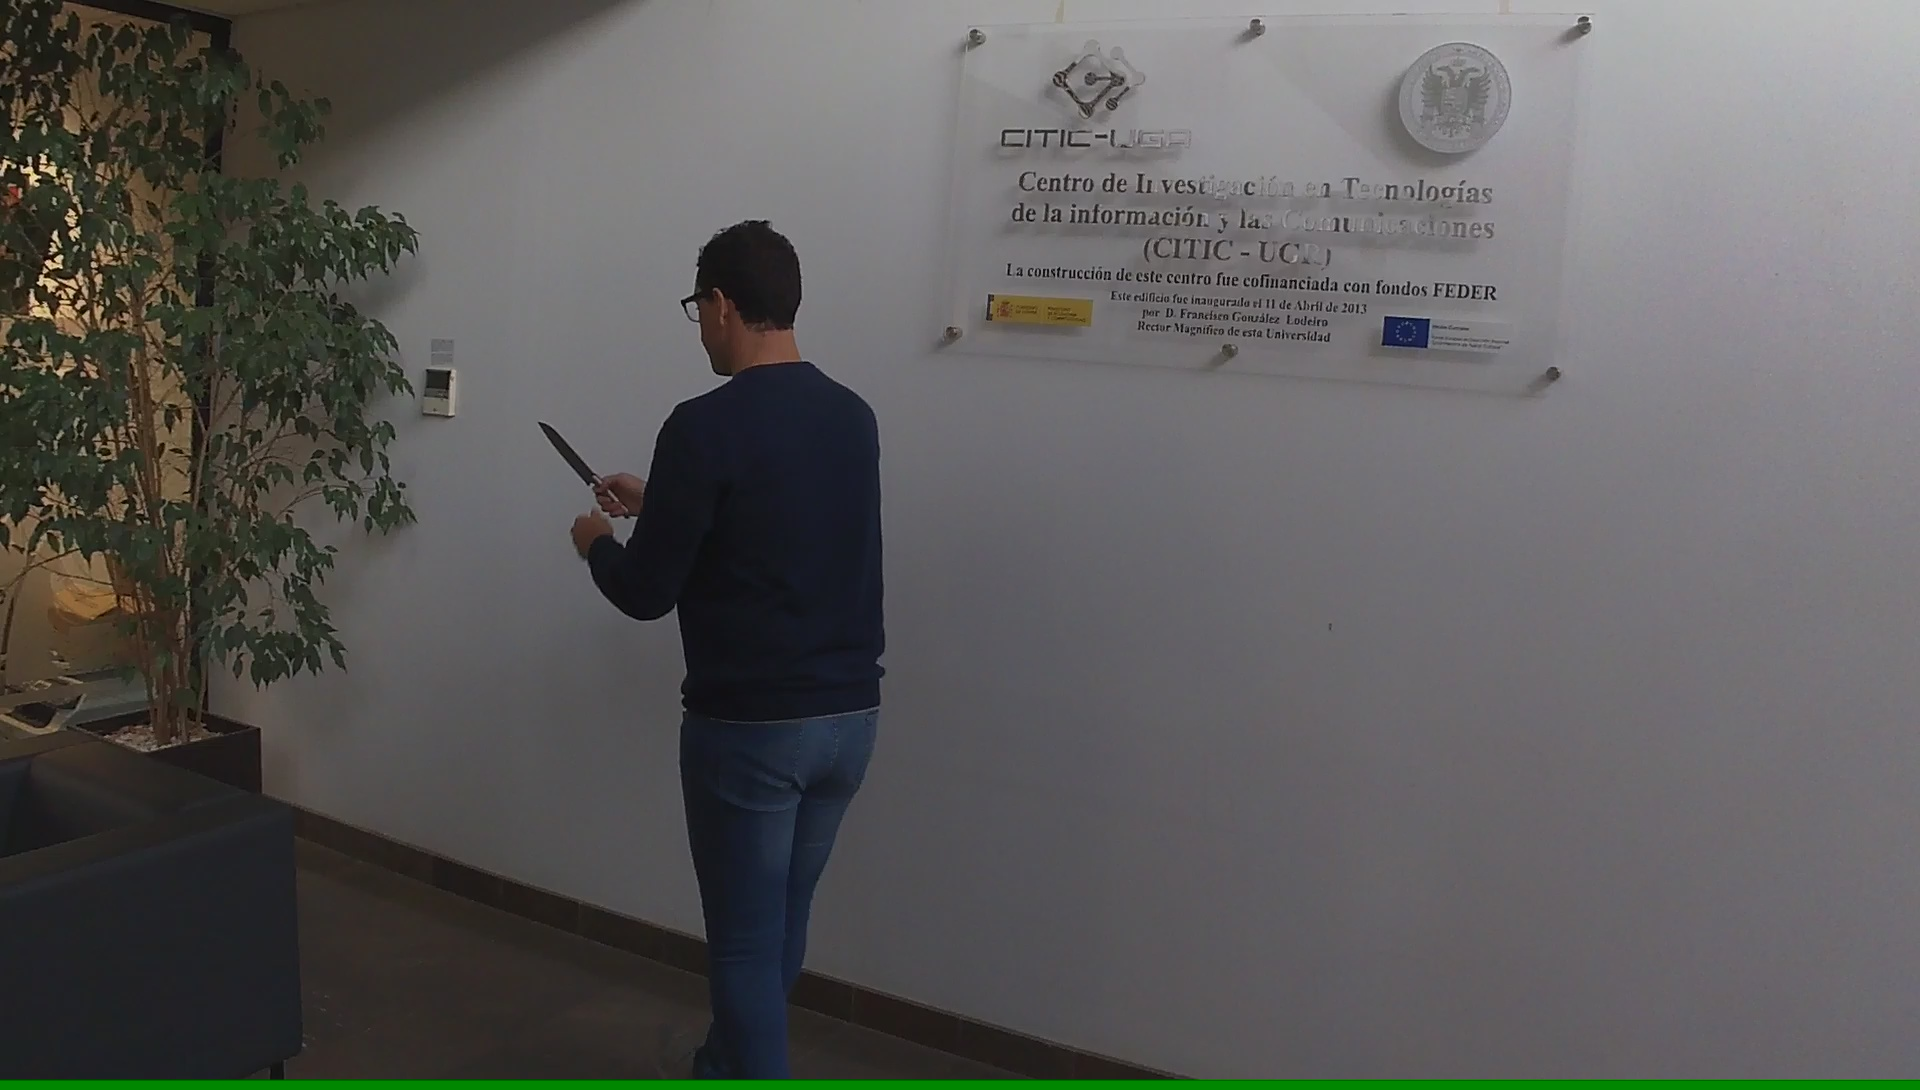knife: (535, 416, 632, 521)
